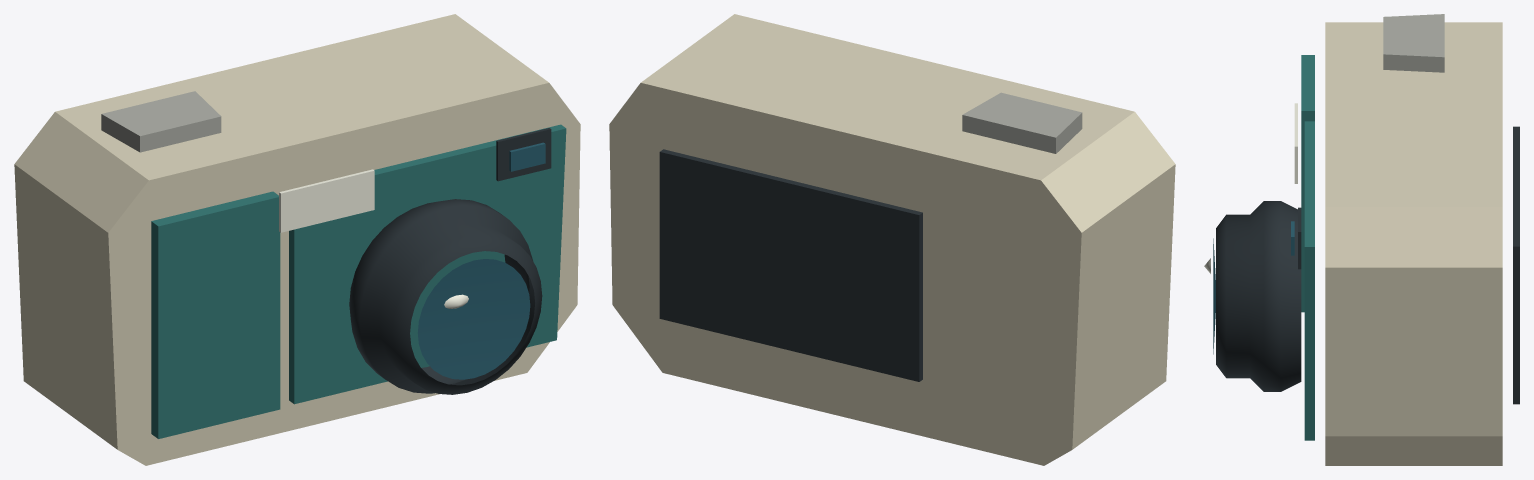
The model's file is camera.glb.
3 renders of one model, left to right at view 1: azimuth 30°, elevation 25°; view 2: azimuth 150°, elevation 25°; view 3: azimuth 270°, elevation 25°, orthographic. The views are drawn at different scales.
Parts seen in each view (by area): view 1: CameraShell, CameraLeatherGrip, CameraFaceInset, CameraLensHousing, CameraLensGlass, CameraShutter, CameraFlash, CameraViewfinder, CameraFinderGlass; view 2: CameraShell, CameraBackDisplay, CameraShutter; view 3: CameraShell, CameraLensHousing, CameraFaceInset, CameraShutter, CameraBackDisplay, CameraLeatherGrip.
Part boxes in pixels (box(x1,y1,x2,y2)): CameraShell: box(14, 14, 580, 465); CameraLeatherGrip: box(151, 191, 280, 438); CameraFaceInset: box(289, 124, 566, 404); CameraLensHousing: box(349, 199, 542, 394); CameraLensGlass: box(417, 259, 530, 379); CameraShutter: box(101, 91, 221, 152); CameraFlash: box(279, 169, 374, 232); CameraViewfinder: box(496, 128, 551, 181); CameraFinderGlass: box(509, 142, 545, 171); CameraShell: box(609, 14, 1175, 465); CameraBackDisplay: box(659, 149, 922, 381); CameraShutter: box(962, 92, 1082, 153); CameraShell: box(1325, 22, 1502, 465); CameraLensHousing: box(1216, 201, 1301, 391); CameraFaceInset: box(1304, 121, 1314, 440); CameraShutter: box(1383, 14, 1444, 72); CameraBackDisplay: box(1513, 126, 1519, 404); CameraLeatherGrip: box(1301, 55, 1314, 312).
Size of the model in its own units: 0.151 by 0.092 by 0.0925.
